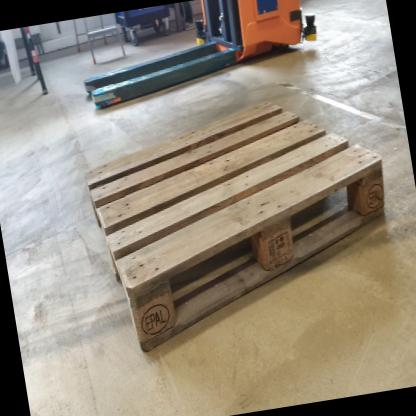BoxFace: (82, 94, 390, 361)
